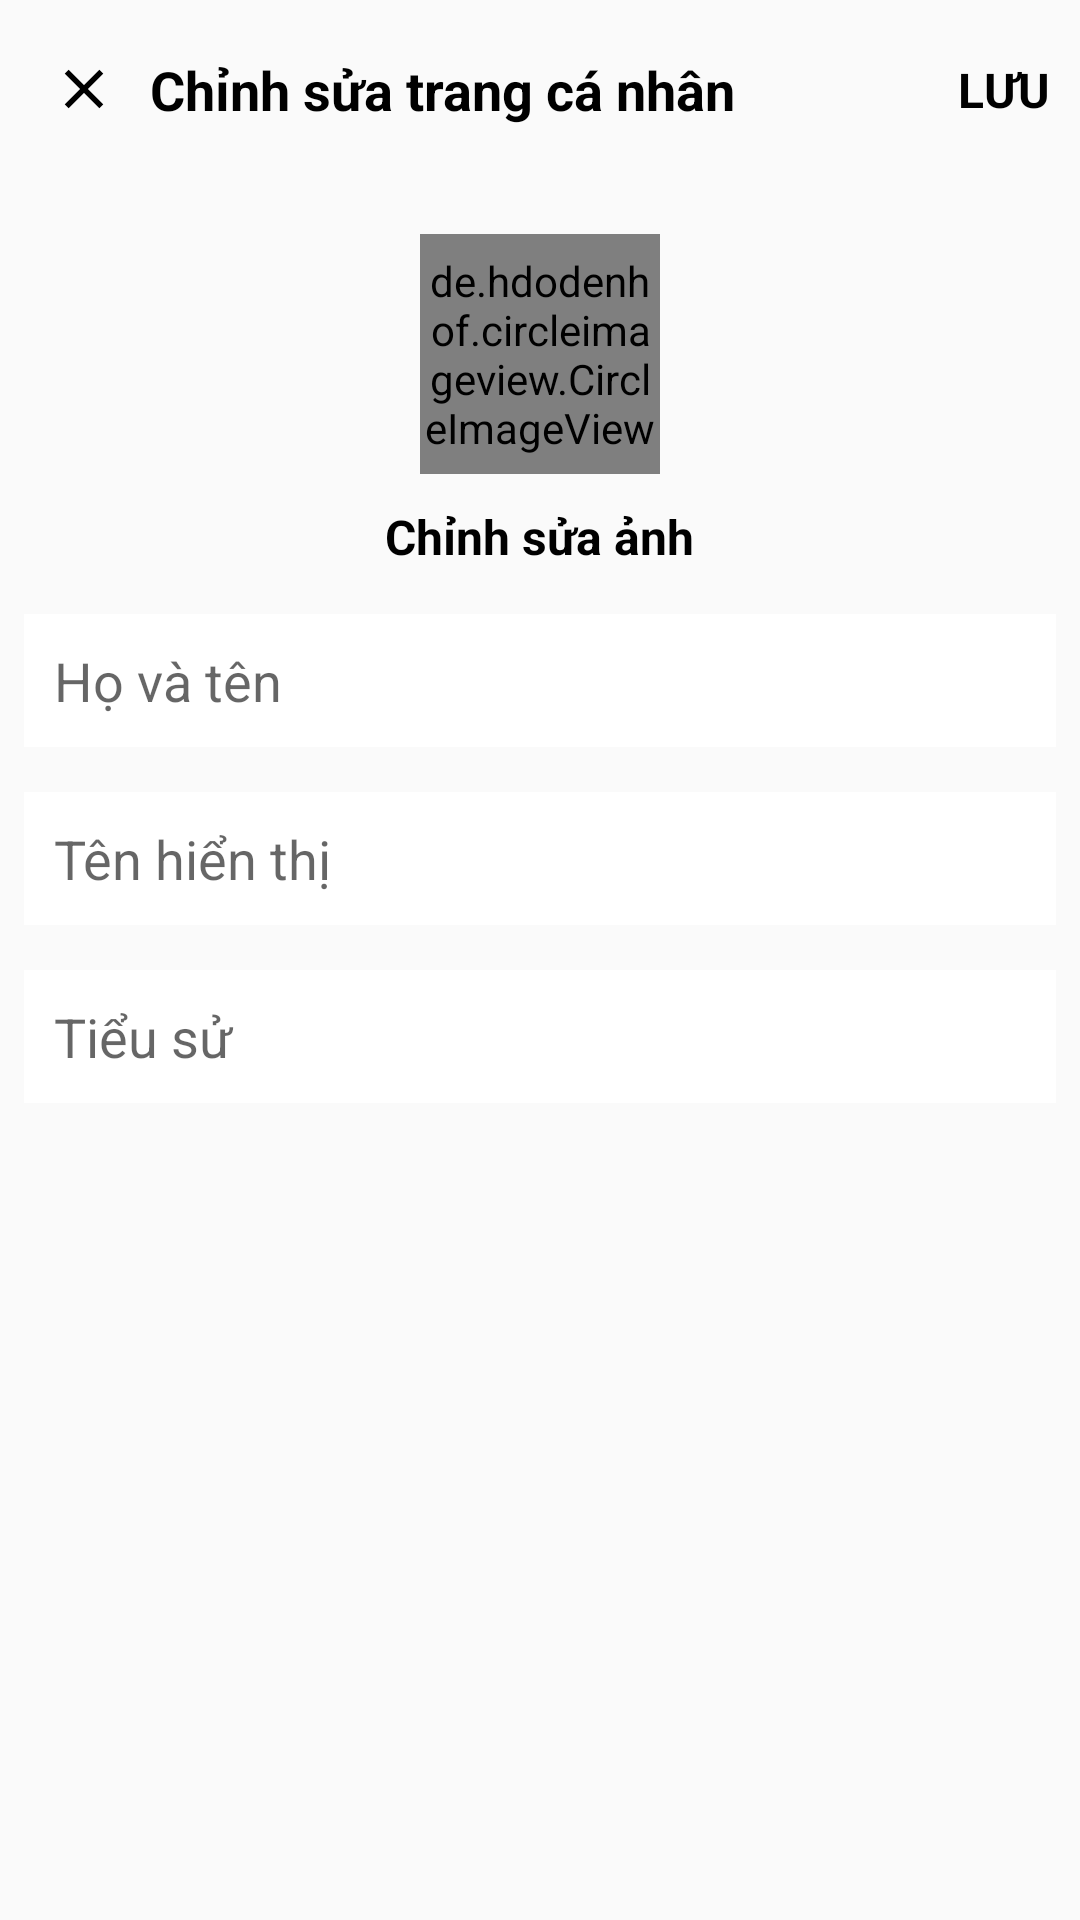

Named icons in this screenshot (1080px x 1920px) and their centers, [x,y]:
close: [84,89]
